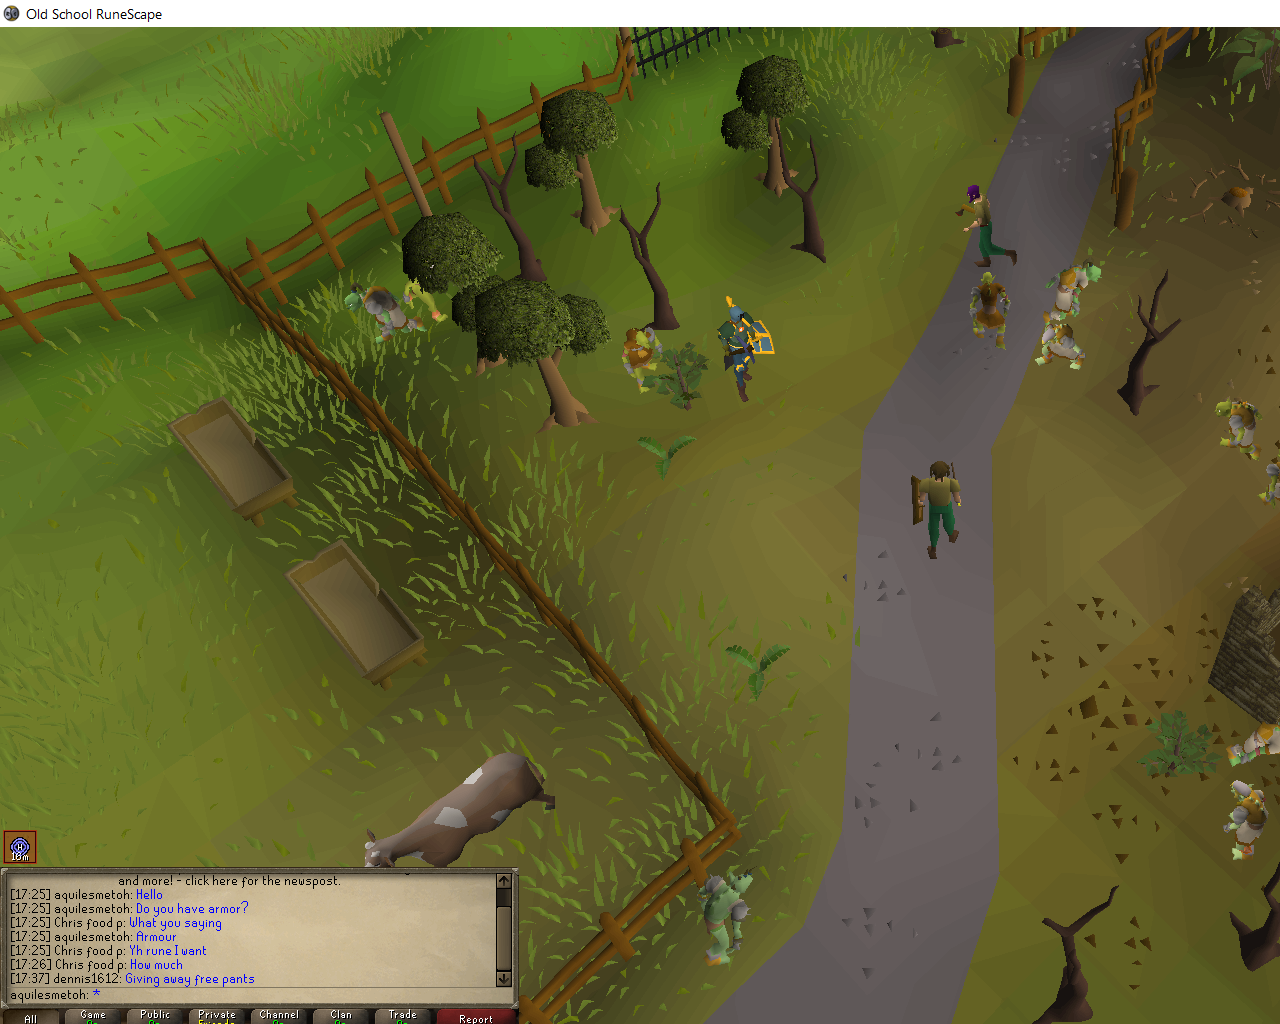Goblin: (342, 280, 428, 345), (401, 250, 459, 322), (616, 326, 664, 394)
